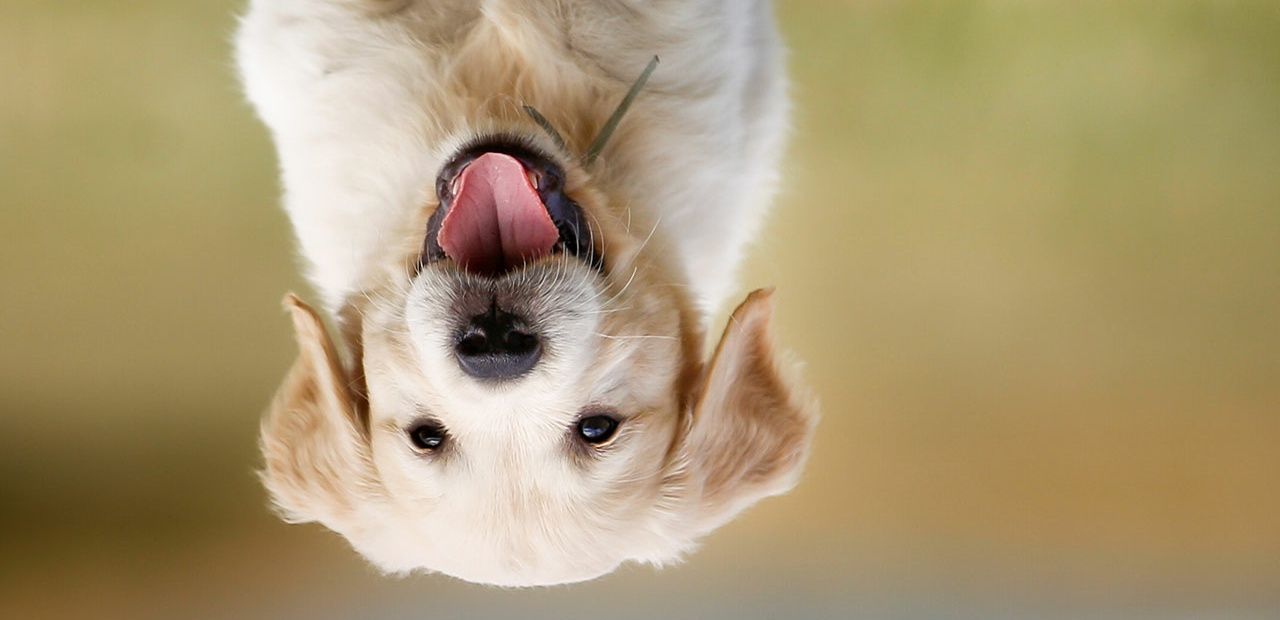dog: (255, 122, 812, 588)
